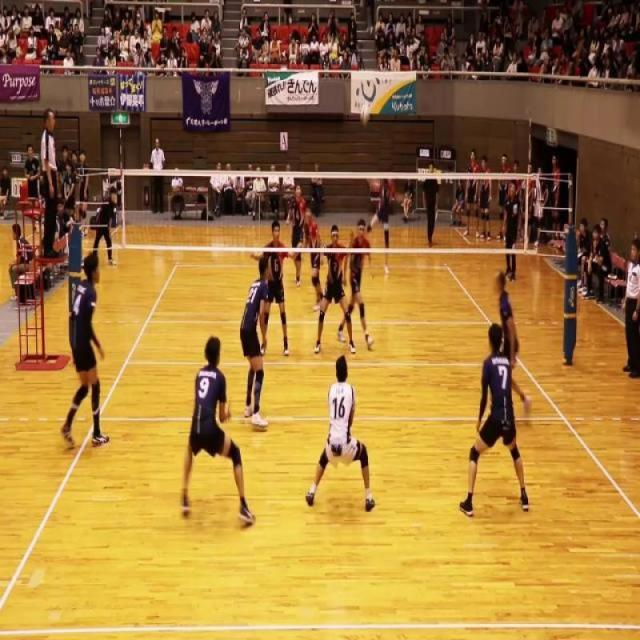volleyball: (360, 100, 370, 127)
